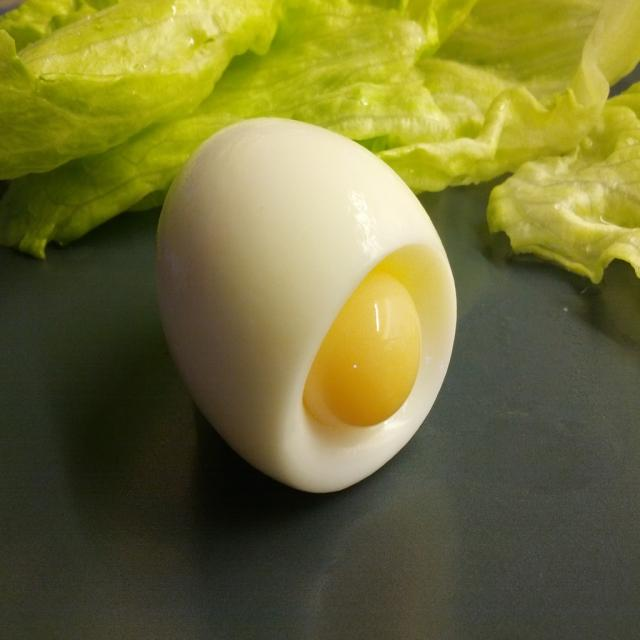Egg: (154, 101, 457, 490)
